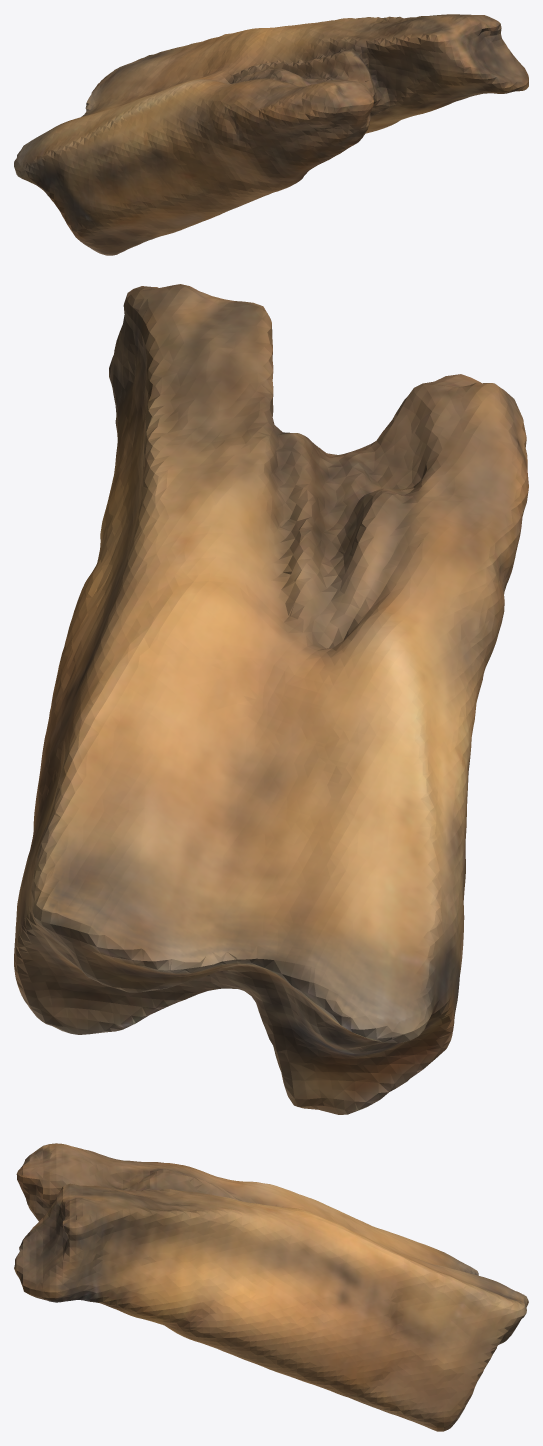
Rendered from MB Capra 2 M1.obj.
The picture shows the model from 3 angles, top to bottom: view 1: azimuth 30°, elevation 25°; view 2: azimuth 150°, elevation 25°; view 3: azimuth 270°, elevation 25°; orthographic projection. The views are drawn at different scales.
Size of the model in its own units: 19.66 by 15.94 by 23.12.
Materials: 1 (1 with a texture image).
